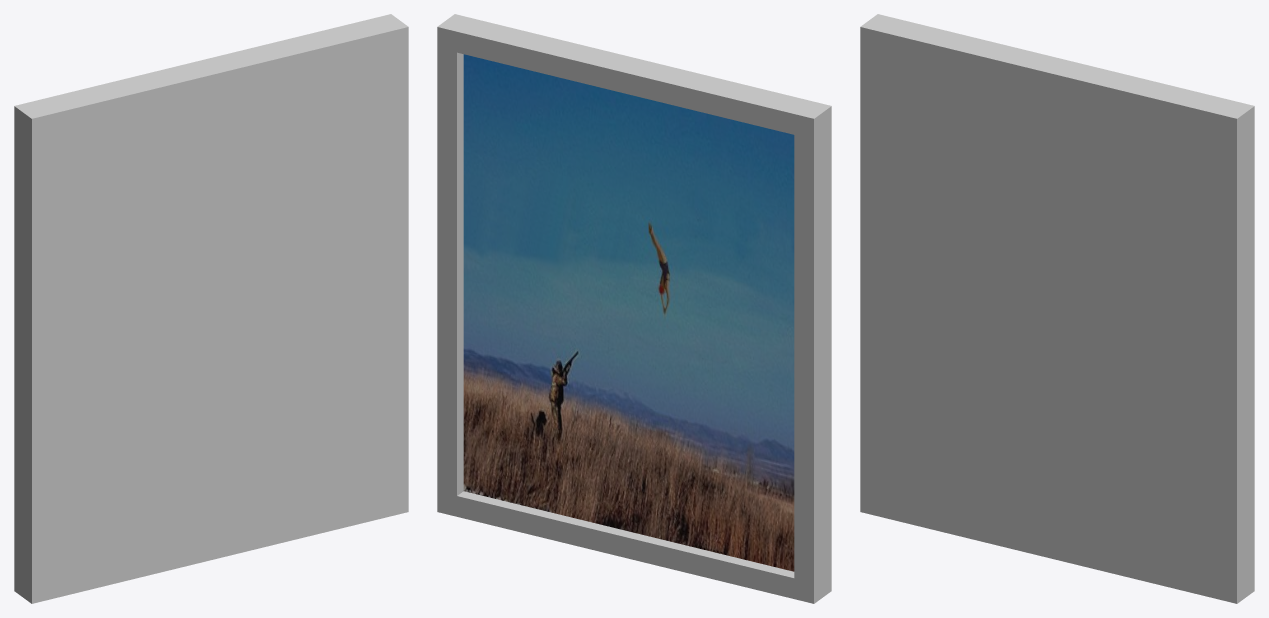
Rendered from Picture.FBX.
3 views of the same model, side by side, from view 1: azimuth 30°, elevation 25°; view 2: azimuth 150°, elevation 25°; view 3: azimuth 330°, elevation 25° (orthographic).
Parts seen in each view (by area): view 1: Box040; view 2: Plane001, Box040; view 3: Box040.
Part boxes in pixels (x1,y1,x2,y2): Box040: [14, 14, 408, 603]; Plane001: [463, 54, 794, 571]; Box040: [437, 14, 831, 603]; Box040: [860, 14, 1254, 603].
Size of the model in its own units: 38.77 by 47.67 by 3.14.
1 material, 1 textured.
